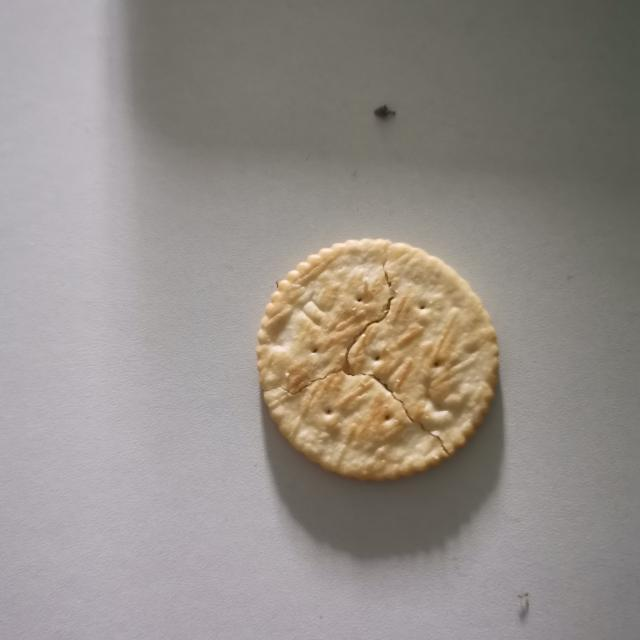Fracture: (334, 242, 462, 465)
